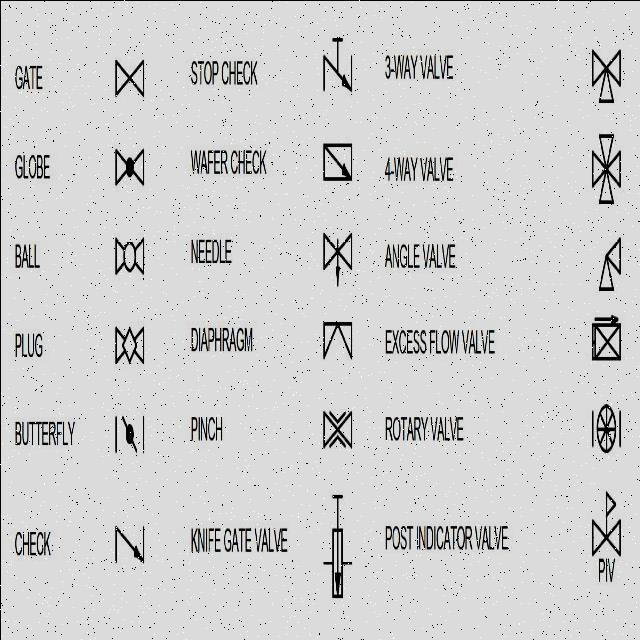3 Way Gate Valve: (580, 30, 624, 114)
4 Way Gate Valve: (588, 122, 626, 215)
Angle Valve: (592, 234, 626, 296)
Ball Valve: (104, 224, 152, 282)
Butterfly Valve: (107, 406, 148, 458)
Check Valve: (104, 513, 158, 577)
Gate Valve: (100, 20, 152, 112)
Globe Valve: (100, 133, 160, 210)
Knife Valve: (313, 472, 357, 628)
Needle Valve: (306, 224, 359, 294)
Pinch Valve: (306, 396, 362, 464)
Plug Valve: (108, 314, 154, 380)
Stop Valve: (296, 20, 364, 97)
